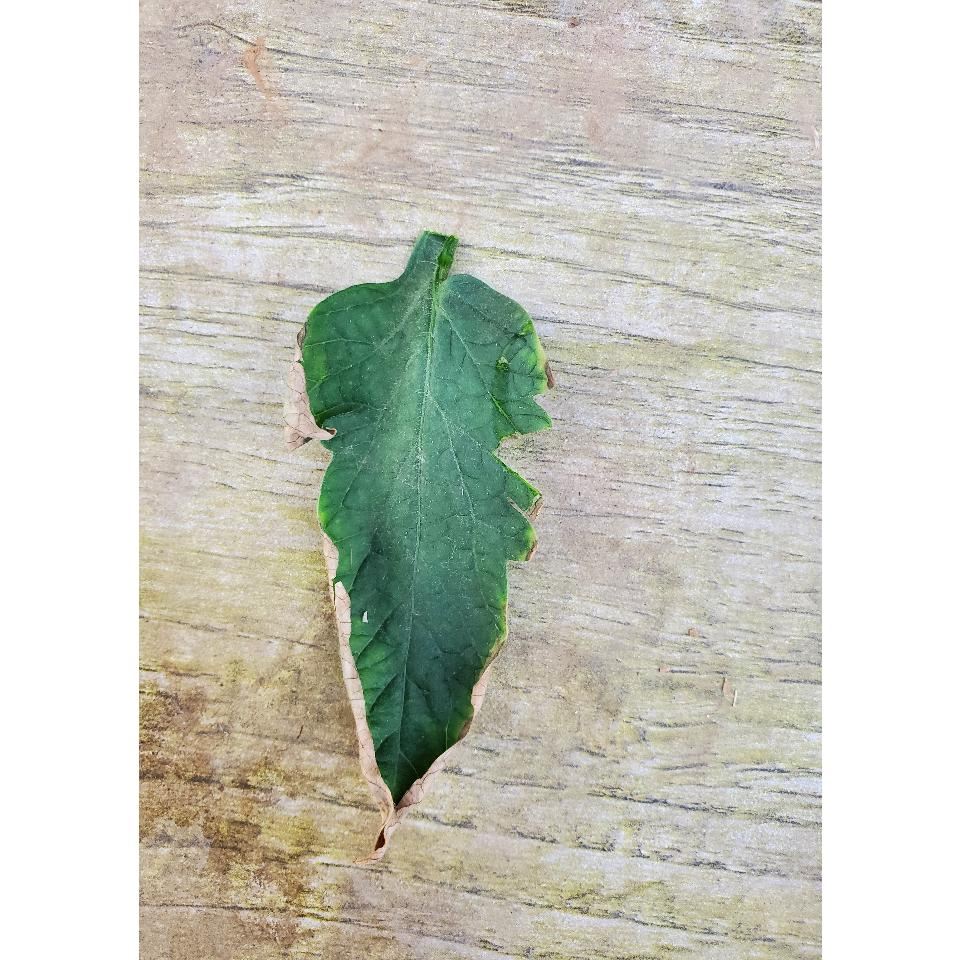tomato_bacterial_blight: (270, 183, 578, 877)
